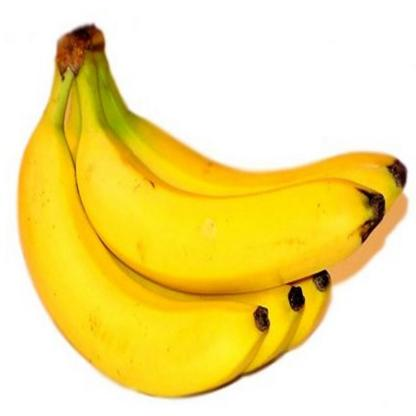banana: (5, 114, 269, 408), (75, 124, 385, 309), (94, 101, 402, 262)
